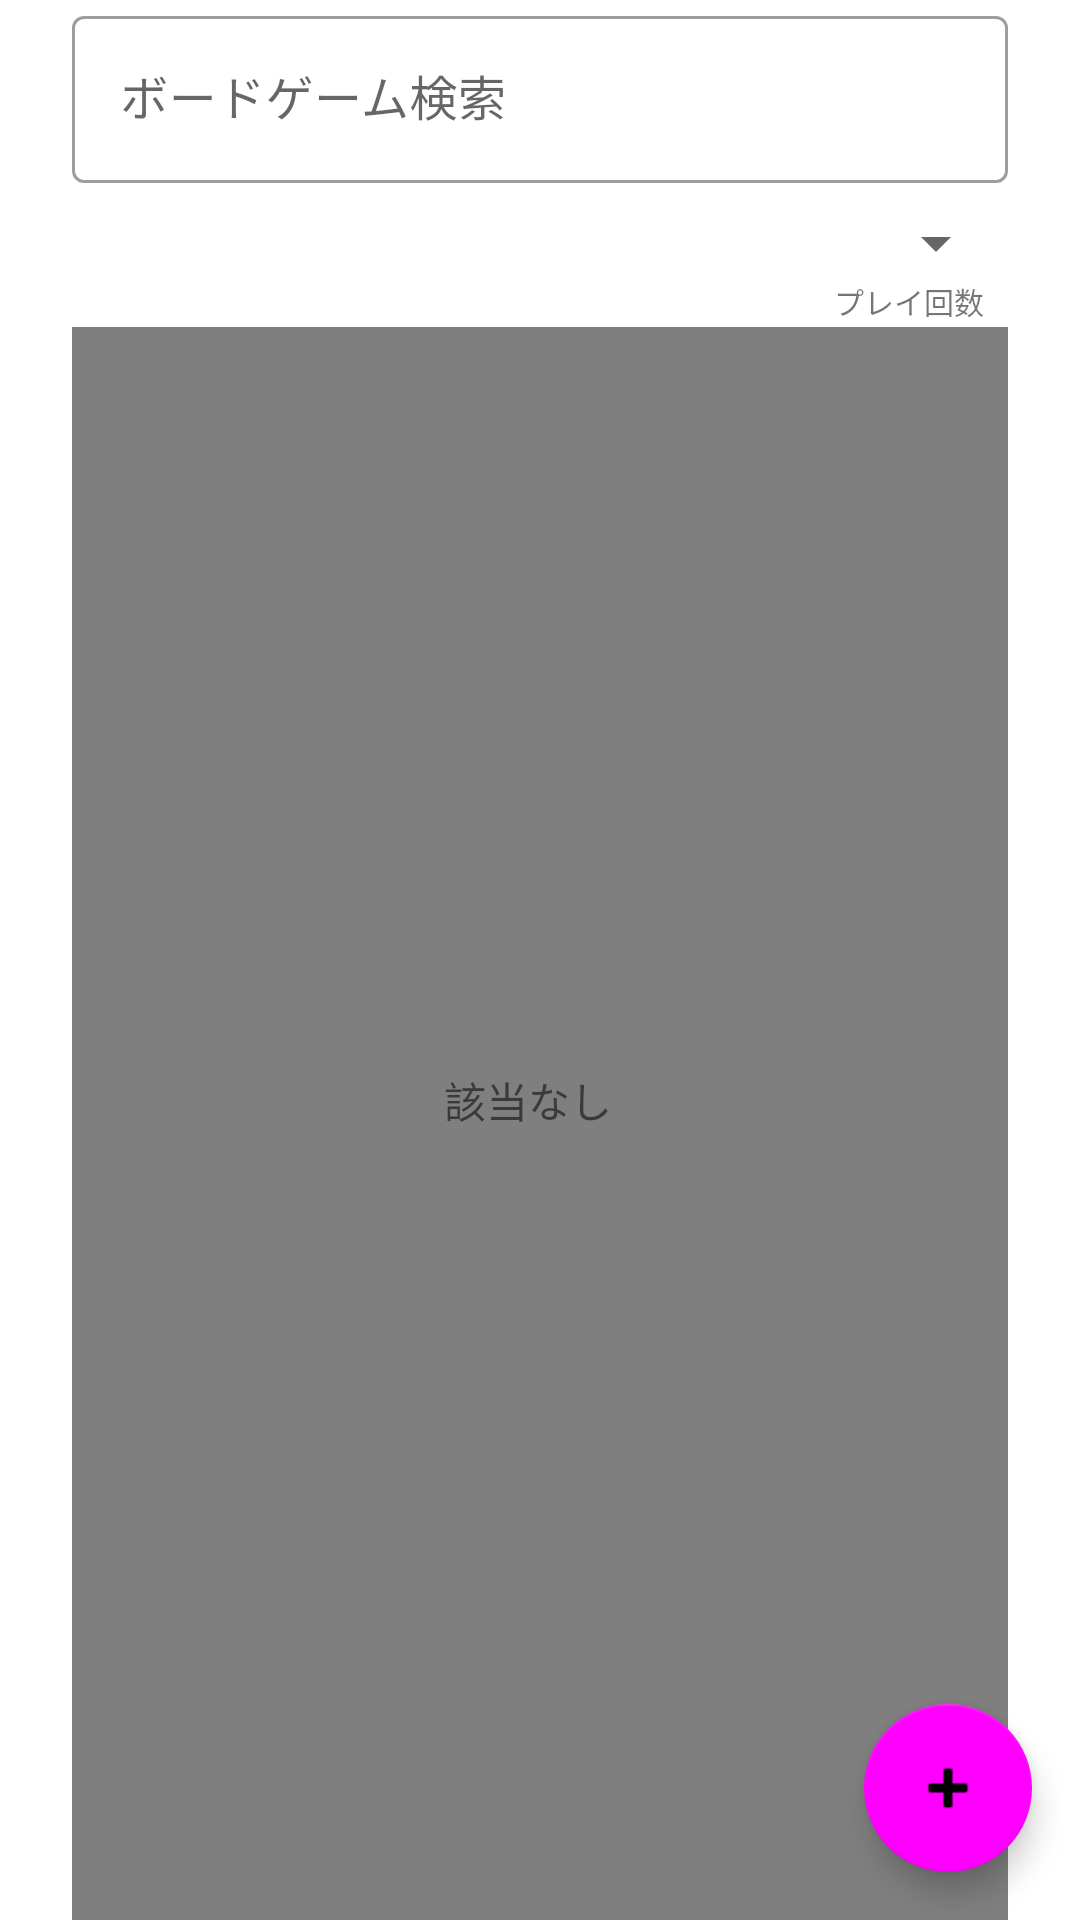

Locate icon controls on the screen. Image size 1080 × 1920, boxes as (x1, y1, x2, y2).
⊕から遊びたいゲームを追加しましょう！: (864, 1704, 1032, 1872)
